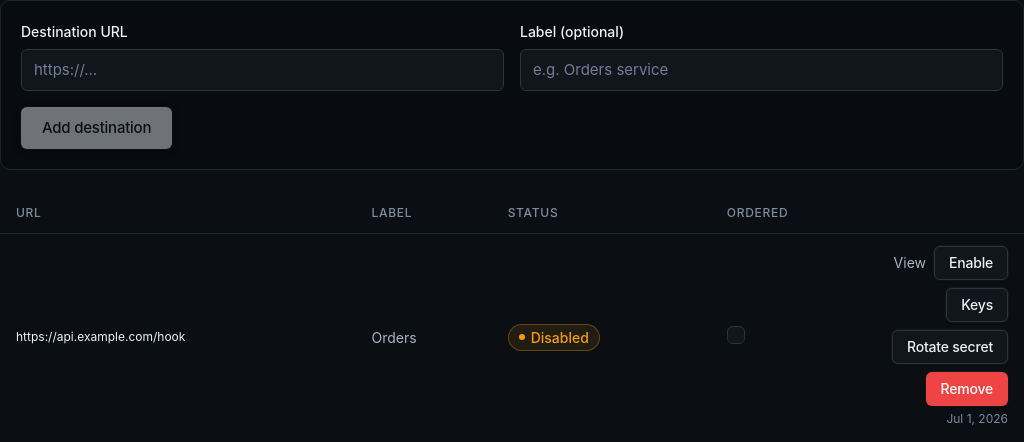
Test: ReplayDestinationsManager › serializes row ops: while one is pending, the other controls on that row are disabled
Click the button "Rotate secret". click: (950, 347)
box: top-left (892, 330), bottom-right (1008, 364)
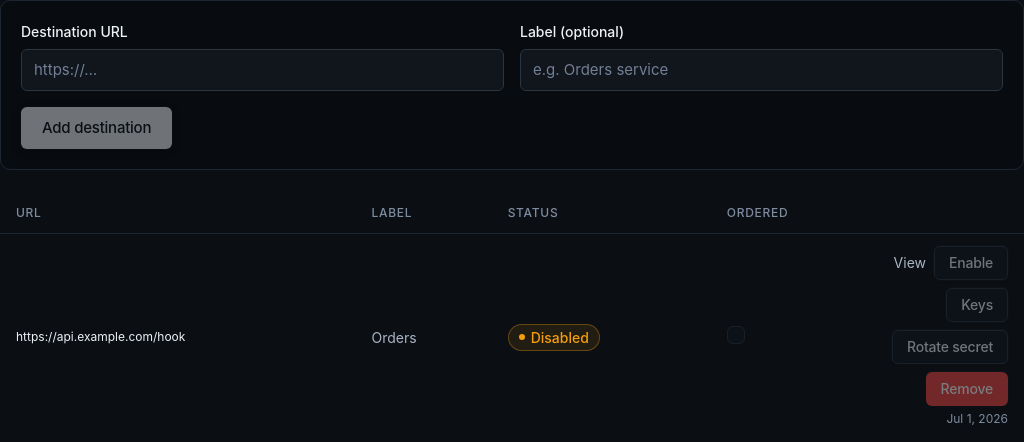
Expected: the button "Remove" is disabled, top-left (926, 372), bottom-right (1008, 406)
Expected: the button "Enable" is disabled, top-left (934, 246), bottom-right (1008, 280)
Expected: the button "Keys" is disabled, top-left (946, 288), bottom-right (1008, 322)
